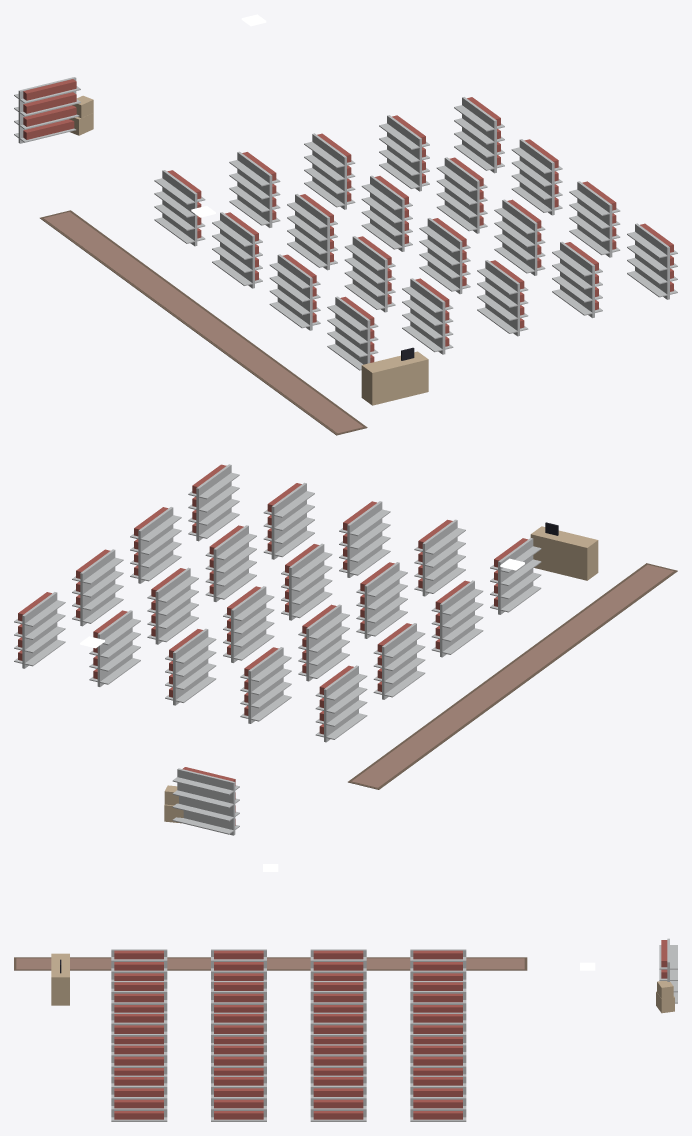
The model's file is fine-s0.glb.
The picture shows the model from 3 angles, top to bottom: view 1: azimuth 30°, elevation 25°; view 2: azimuth 150°, elevation 25°; view 3: azimuth 270°, elevation 25°; orthographic projection. The views are drawn at different scales.
Visible parts, largest first — view 1: soft-s0, shelving.000, shop-counter.000, shelf.004, shelf.010, shelf.002, shelf.013, shelf.017, shelf.018, shelf.006, shelf.007, shelf.011 (+12 smaller); view 2: soft-s0, shelving.000, shop-counter.000, shelf.005, shelf.000, shelf.002, shelf.019, shelf.001, shelf.007, shelf.014, shelf.015, shelf.004 (+11 smaller); view 3: soft-s0, shelf.016, shelf.017, shelf.019, shelf.018, shelf.008, shelf.009, shelf.011, shelf.010, shelf.000, shelf.001, shelf.003 (+12 smaller).
Boxes of the visible parts, bbox=[...] form: soft-s0: bbox=[40, 210, 367, 435]; shelving.000: bbox=[14, 77, 80, 143]; shop-counter.000: bbox=[361, 347, 428, 405]; shelf.004: bbox=[229, 151, 280, 227]; shelf.010: bbox=[419, 218, 470, 294]; shelf.002: bbox=[269, 254, 320, 330]; shelf.013: bbox=[436, 157, 487, 233]; shelf.017: bbox=[511, 139, 562, 215]; shelf.018: bbox=[569, 181, 620, 257]; shelf.006: bbox=[344, 236, 395, 312]; shelf.007: bbox=[402, 278, 453, 354]; shelf.011: bbox=[477, 260, 528, 336]; soft-s0: bbox=[348, 563, 677, 789]; shelving.000: bbox=[172, 767, 239, 835]; shop-counter.000: bbox=[530, 522, 598, 580]; shelf.005: bbox=[298, 604, 349, 681]; shelf.000: bbox=[315, 665, 367, 742]; shelf.002: bbox=[431, 580, 483, 657]; shelf.019: bbox=[188, 464, 239, 541]; shelf.001: bbox=[373, 623, 425, 699]; shelf.007: bbox=[414, 519, 465, 596]; shelf.014: bbox=[205, 525, 256, 601]; shelf.015: bbox=[263, 482, 314, 559]; shelf.004: bbox=[240, 647, 291, 723]; soft-s0: bbox=[14, 957, 527, 970]; shelf.016: bbox=[410, 1075, 466, 1121]; shelf.017: bbox=[310, 1075, 366, 1121]; shelf.019: bbox=[111, 1075, 167, 1121]; shelf.018: bbox=[211, 1075, 266, 1121]; shelf.008: bbox=[410, 1012, 466, 1044]; shelf.009: bbox=[310, 1012, 366, 1044]; shelf.011: bbox=[111, 1012, 167, 1044]; shelf.010: bbox=[211, 1012, 266, 1044]; shelf.000: bbox=[410, 949, 466, 980]; shelf.001: bbox=[310, 949, 366, 980]; shelf.003: bbox=[111, 949, 167, 980].
Size of the model in its own units: 12.75 by 3.44 by 21.32.
